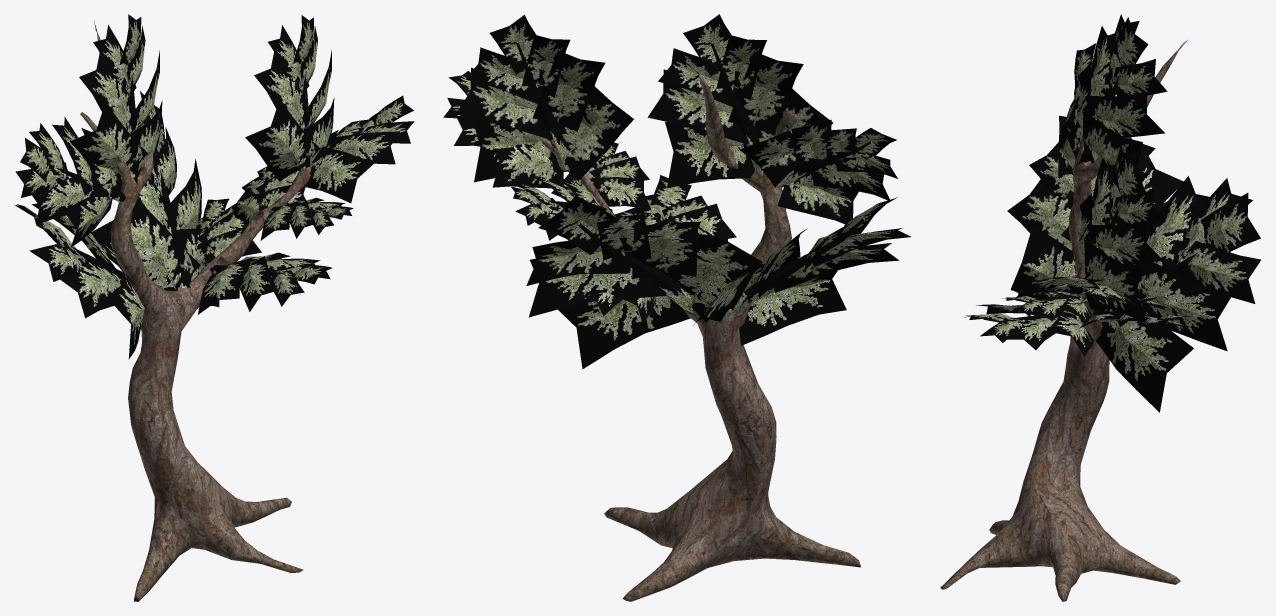
Rendered from Arbol 2.fbx.
The picture shows the model from 3 angles, left to right: view 1: azimuth 30°, elevation 25°; view 2: azimuth 150°, elevation 25°; view 3: azimuth 270°, elevation 25°; orthographic projection. The views are drawn at different scales.
Parts seen in each view (by area): view 1: Arbol_1; view 2: Arbol_1; view 3: Arbol_1.
Part boxes in pixels (box(x1,y1,x2,y2)): Arbol_1: box(15, 14, 414, 601); Arbol_1: box(443, 14, 911, 601); Arbol_1: box(940, 14, 1260, 601).
Bounding box in the file's own units: 1343 × 1726 × 922.
2 materials, 2 textured.
